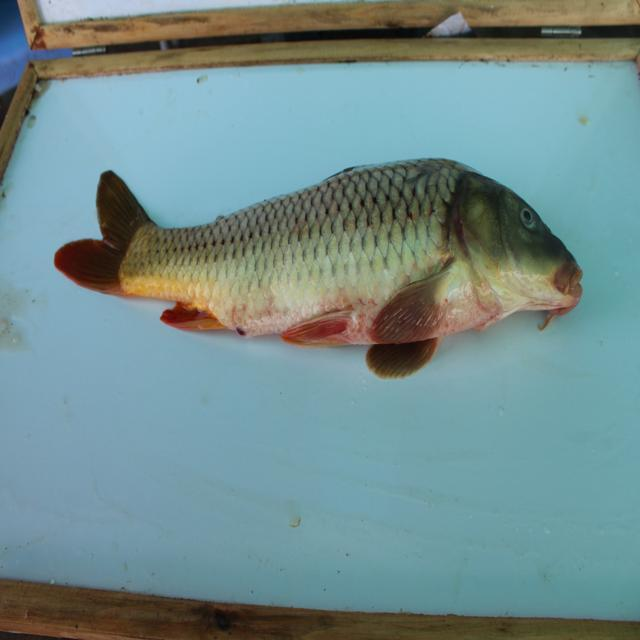CommonCarp: (51, 156, 594, 392)
